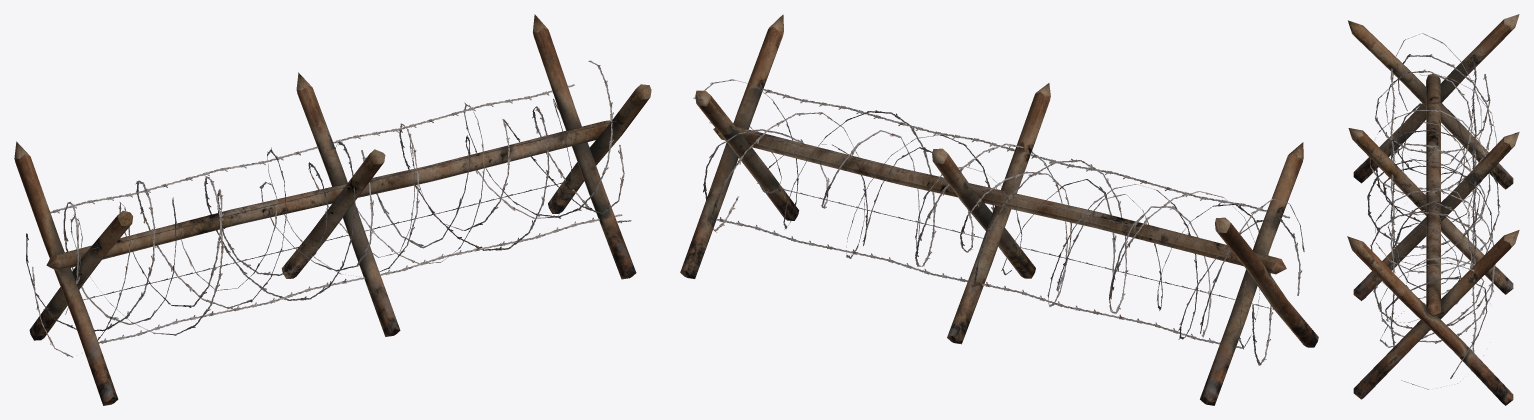
The model's file is barbed_wire.glb.
3 views of the same model, side by side, from view 1: azimuth 30°, elevation 25°; view 2: azimuth 150°, elevation 25°; view 3: azimuth 270°, elevation 25° (orthographic). The views are drawn at different scales.
Visible parts, largest first — view 1: object_0_object_0_0; view 2: object_0_object_0_0; view 3: object_0_object_0_0.
Part boxes in pixels (box(x1,y1,x2,y2)): object_0_object_0_0: box(14, 14, 651, 405); object_0_object_0_0: box(680, 14, 1318, 405); object_0_object_0_0: box(1347, 14, 1519, 405).
Size of the model in its own units: 5.16 by 1.69 by 1.57.
Materials: 1 (1 with a texture image).
